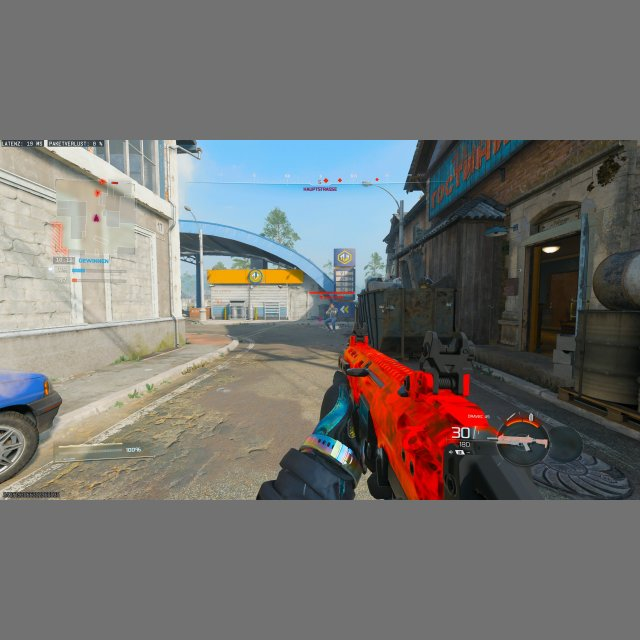player: (324, 304, 337, 331)
